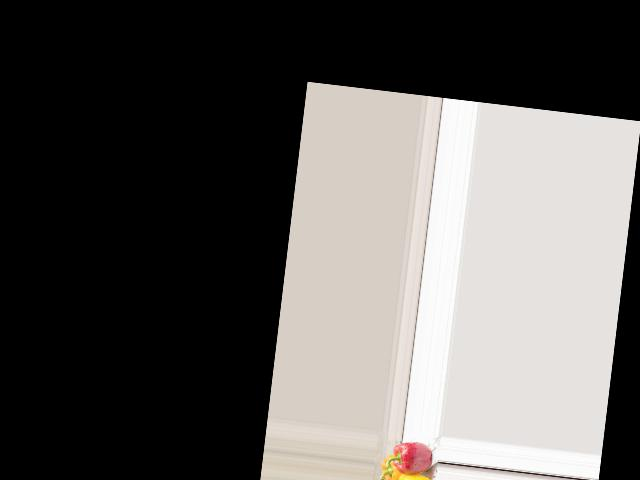bell_pepper: (378, 453, 404, 480)
